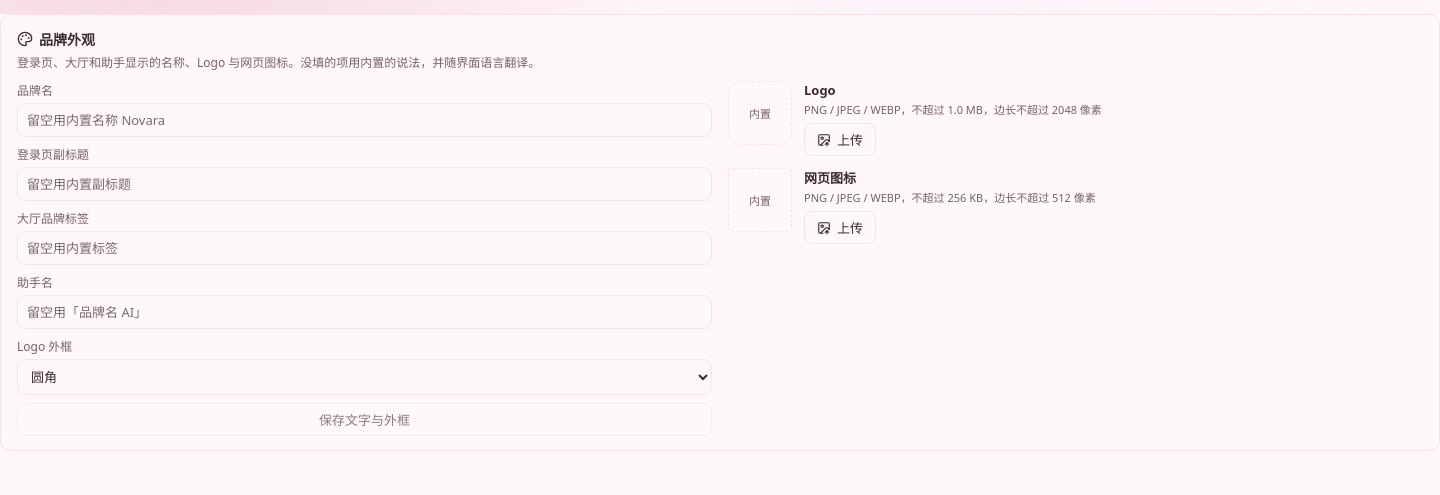
Test: AppearanceSettings › saves the text and frame that changed
Expected: the button "保存文字与外框" is disabled, left=17, top=403, right=712, bottom=436
Type "青岚影业七个字" into the field labelled "品牌名".
click(364, 120); type("青岚影业七个字")  # box left=17, top=103, right=712, bottom=137
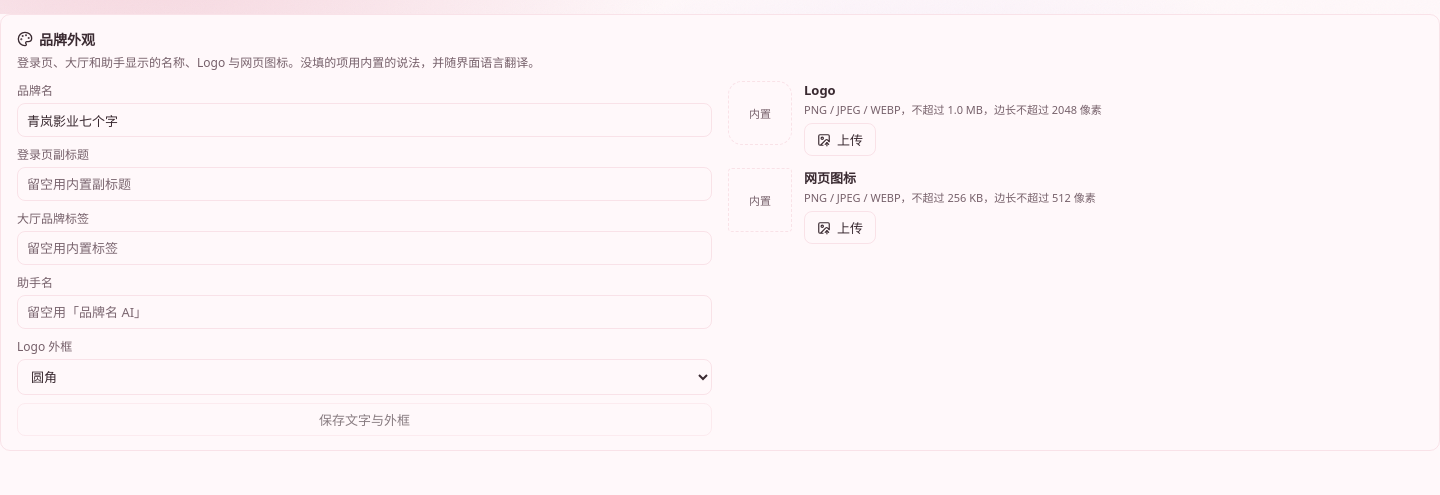
Expected: the button "保存文字与外框" is disabled, left=17, top=403, right=712, bottom=436
Replace the text in the field labelled "品牌名" with " 青岚影业 " at {"x": 364, "y": 120}, box left=17, top=103, right=712, bottom=137
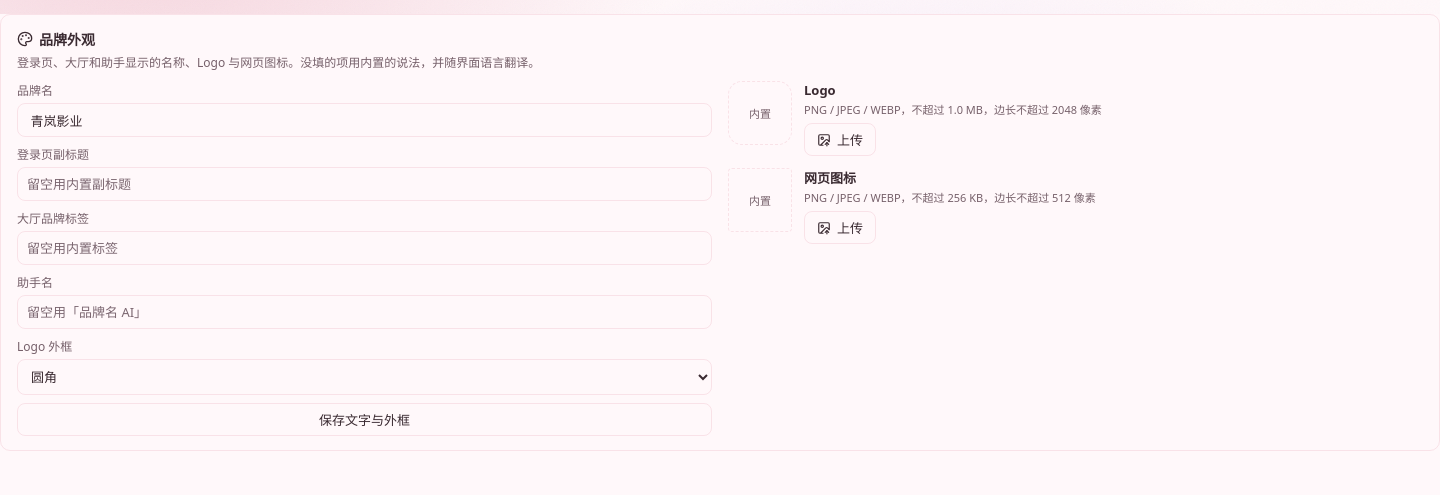
Select "圆形" in the dropdown labelled "Logo 外框" at {"x": 364, "y": 377}, box left=17, top=359, right=712, bottom=395
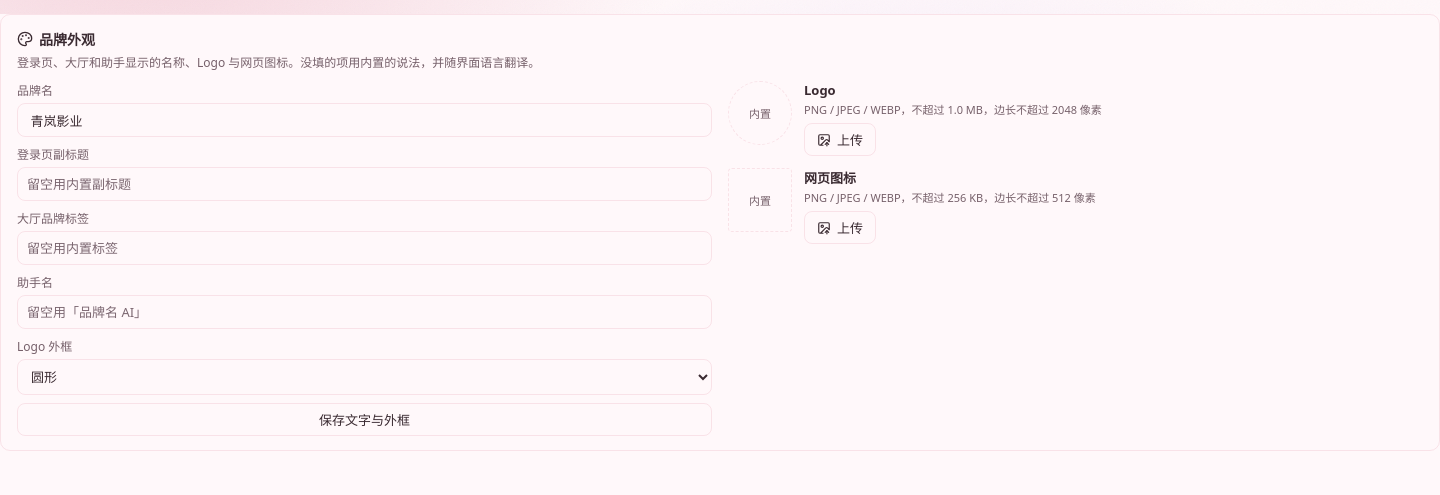
Expected: the button "保存文字与外框" is enabled
Click the button "保存文字与外框".
click(364, 420)  # box left=17, top=403, right=712, bottom=436
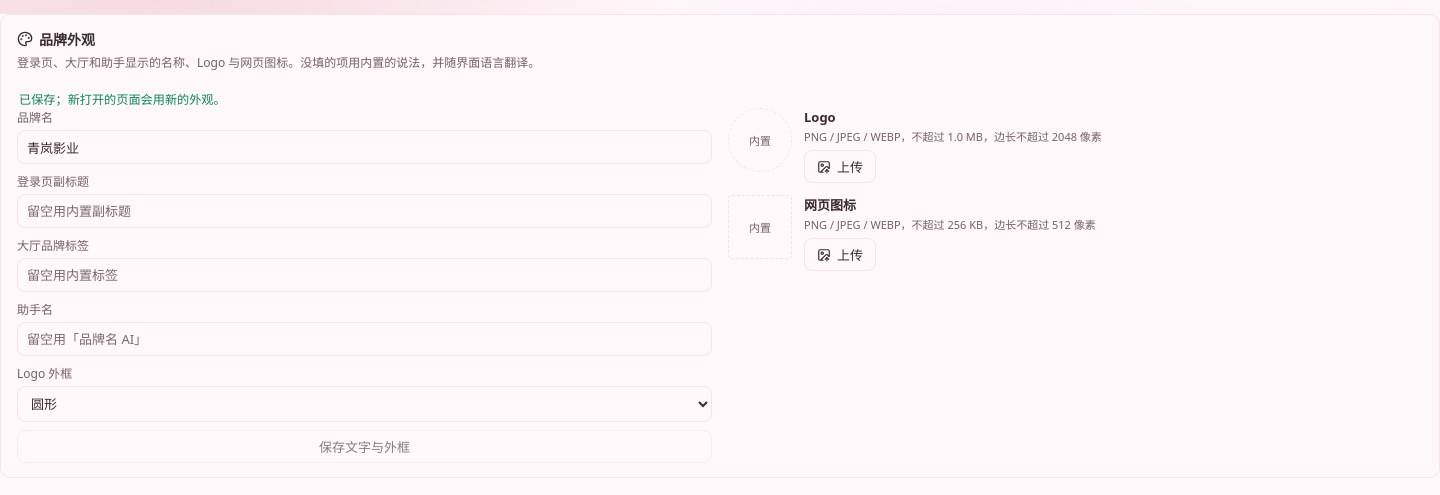
Expected: the message "已保存；新打开的页面会用新的外观。" is shown, left=19, top=91, right=226, bottom=108
Expected: the button "保存文字与外框" is disabled, left=17, top=430, right=712, bottom=463
